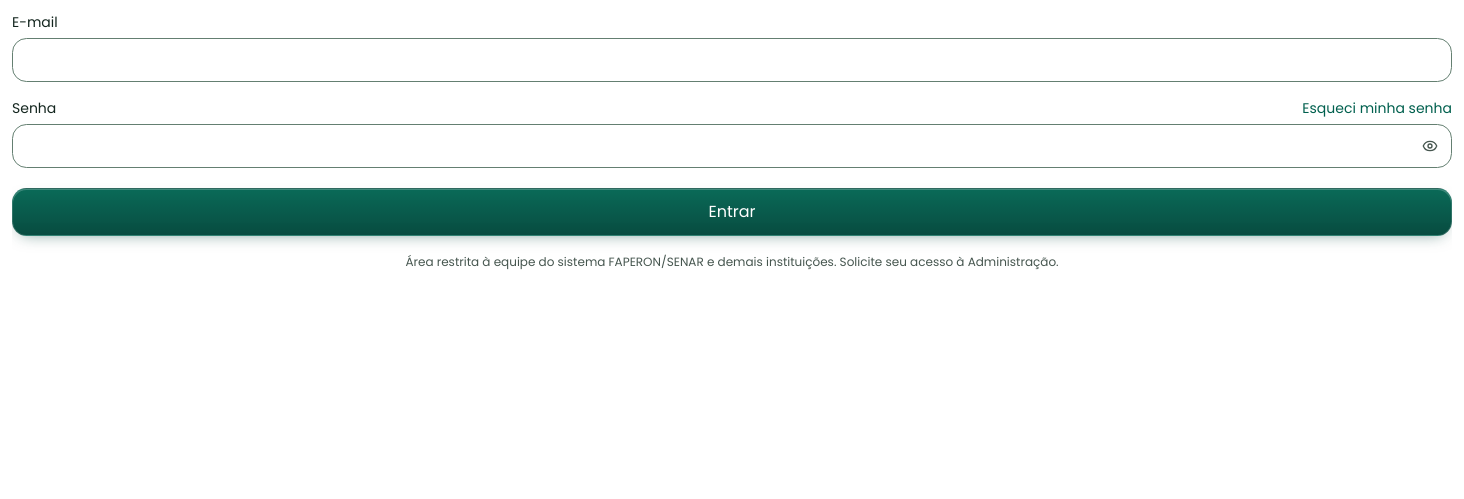
Test: Acessar o sistema (protótipo) › com user@faperon.br e Senha@123, libera e mostra os perfis; Sair volta ao login
In the field labelled "E-mail": (732,60) x1=12 y1=38 x2=1452 y2=82, type "user@faperon.br"
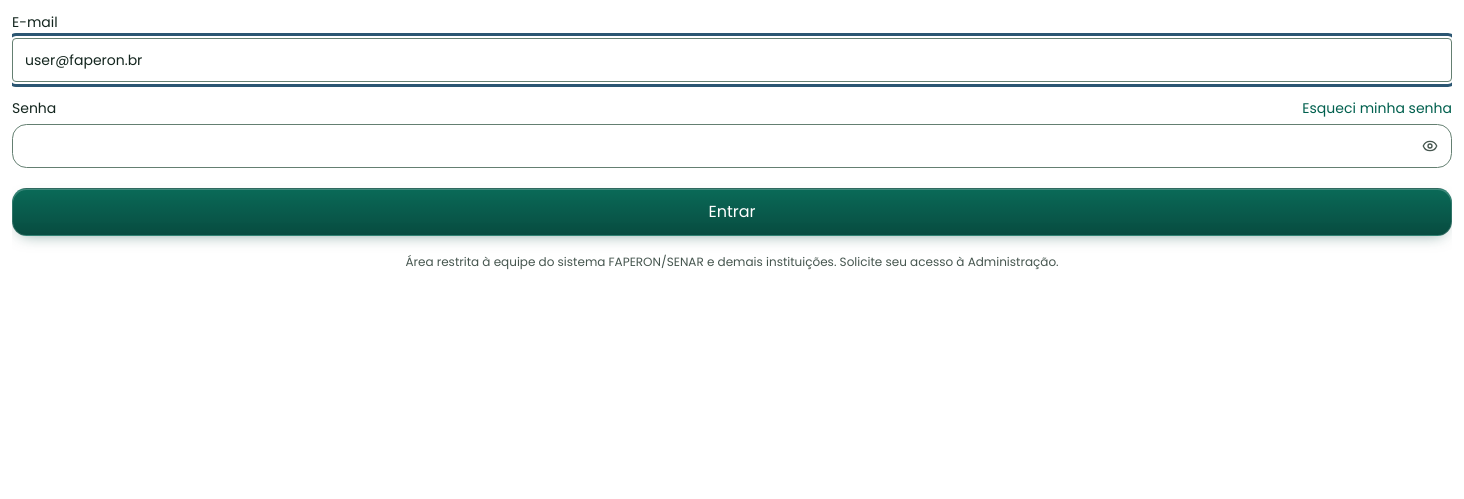
In the password field labelled "Senha": (732,146) x1=12 y1=124 x2=1452 y2=168, type "Senha@123"
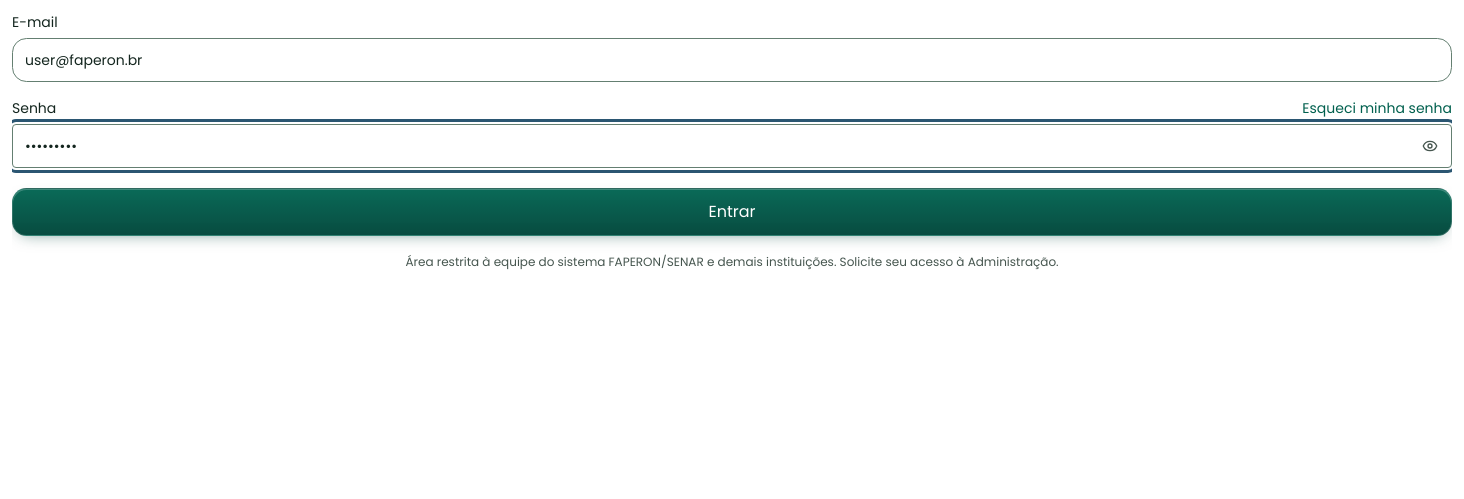
Click the button "Entrar": (732,212) x1=12 y1=188 x2=1452 y2=236
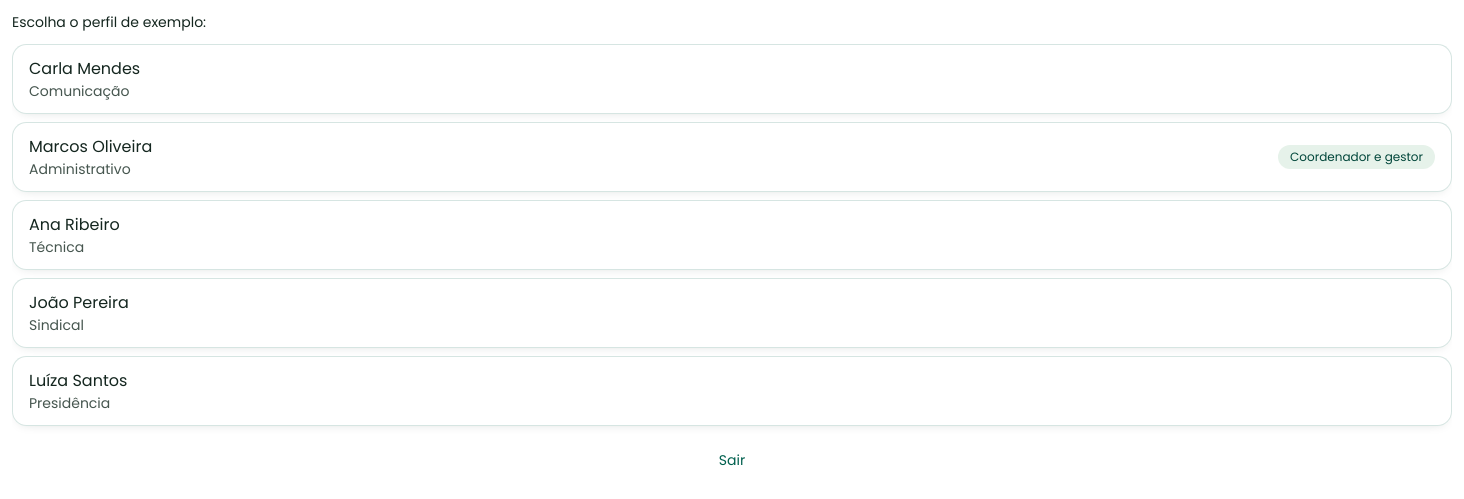
Expected: the number of buttons named "Entrar como" is 5, x1=12 y1=44 x2=1452 y2=114; x1=12 y1=122 x2=1452 y2=192; x1=12 y1=200 x2=1452 y2=270; x1=12 y1=278 x2=1452 y2=348; x1=12 y1=356 x2=1452 y2=426
Click the button "Sair": (732,460) x1=12 y1=438 x2=1452 y2=482
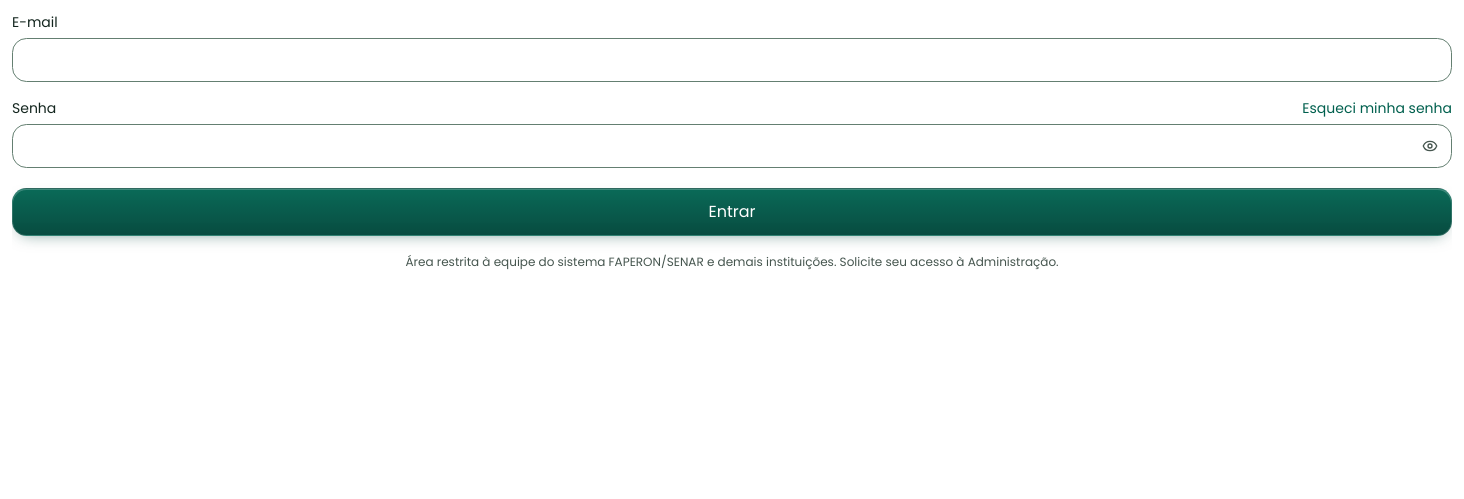
Expected: the field labelled "E-mail" is shown, x1=12 y1=38 x2=1452 y2=82
